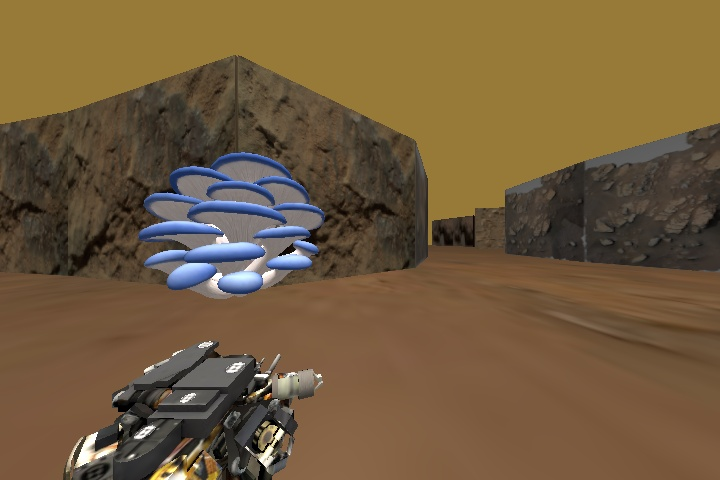mushroom: (140, 150, 323, 299)
